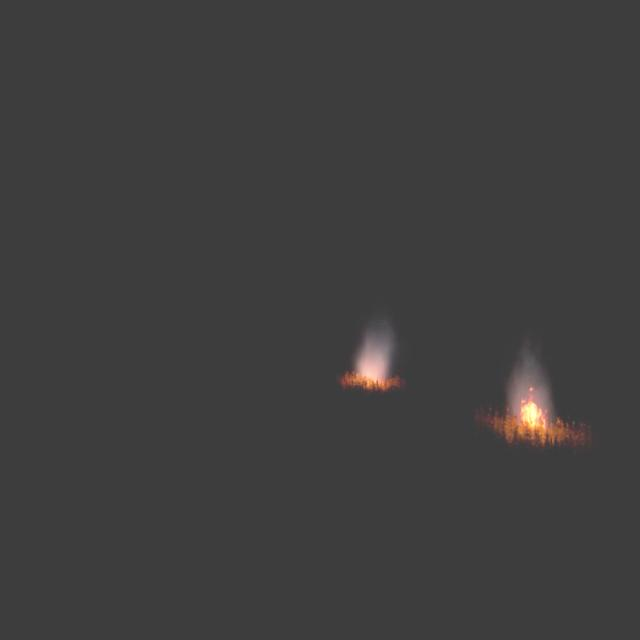fire: (520, 383, 552, 433)
smoke: (504, 359, 558, 426), (356, 329, 396, 384)
